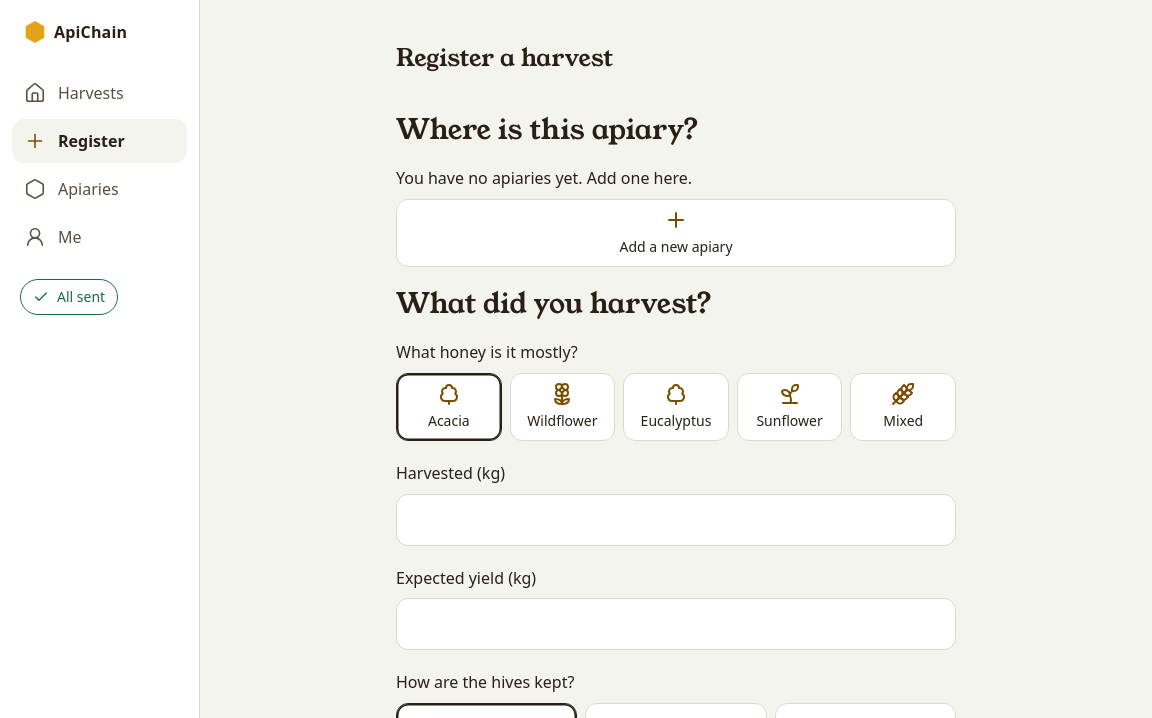
location › a refused location explains how to turn it on
The width and height of the screenshot is (1152, 718).
Step 1. Click the radio button labelled "Add a new apiary" → (676, 233), box [396,199,956,267]
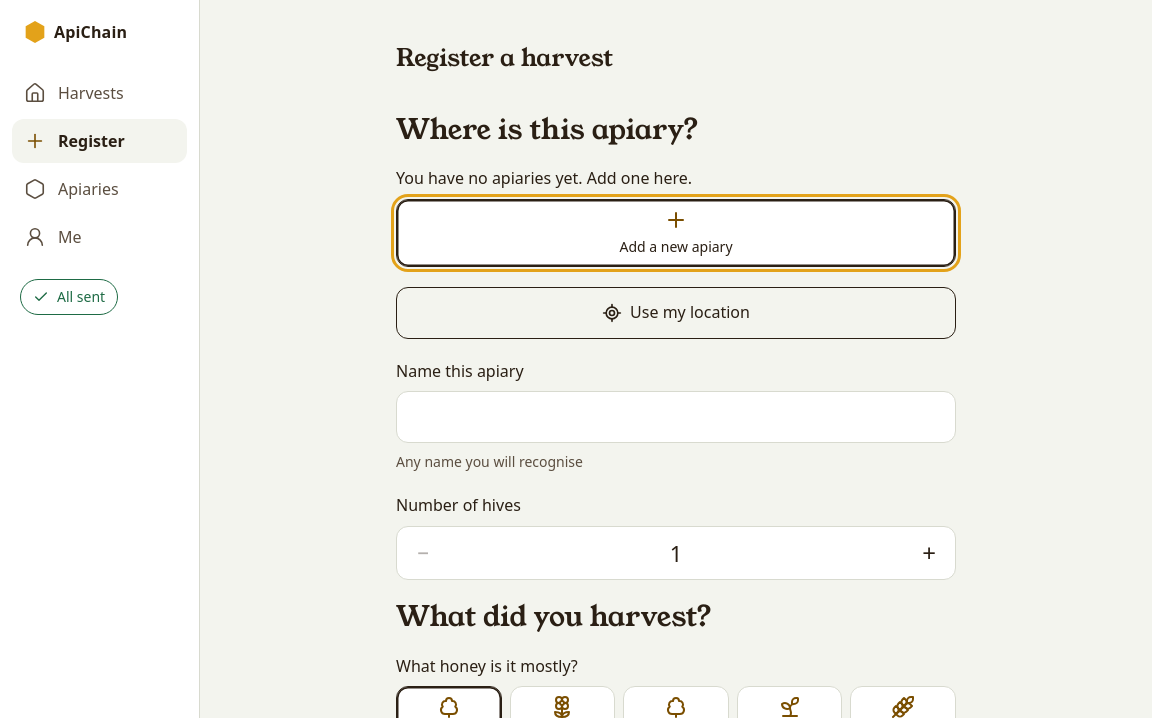
Step 2. Click the button "Use my location" → (676, 313), box [396,287,956,339]
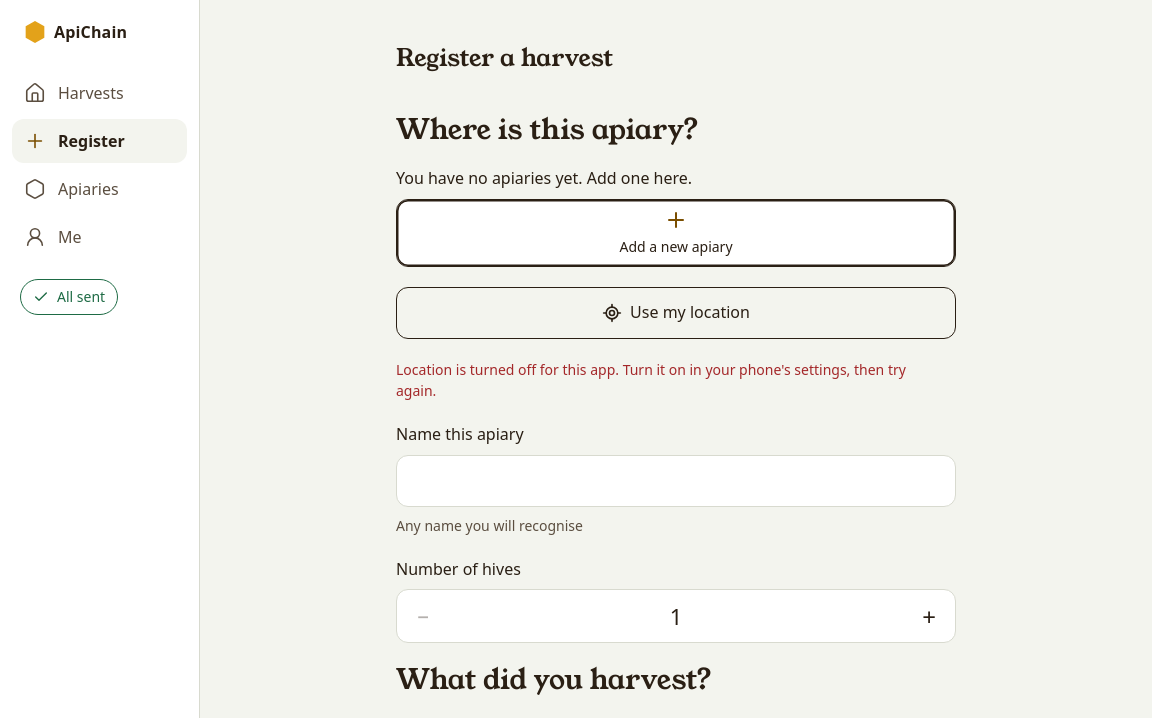
Now the text "Location is turned off for this app" is shown, box [396,360,906,400]
